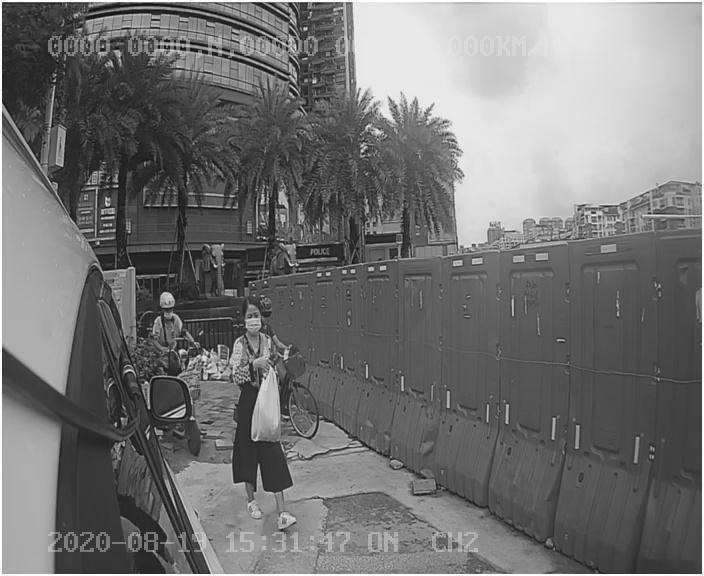person: (224, 302, 309, 536)
